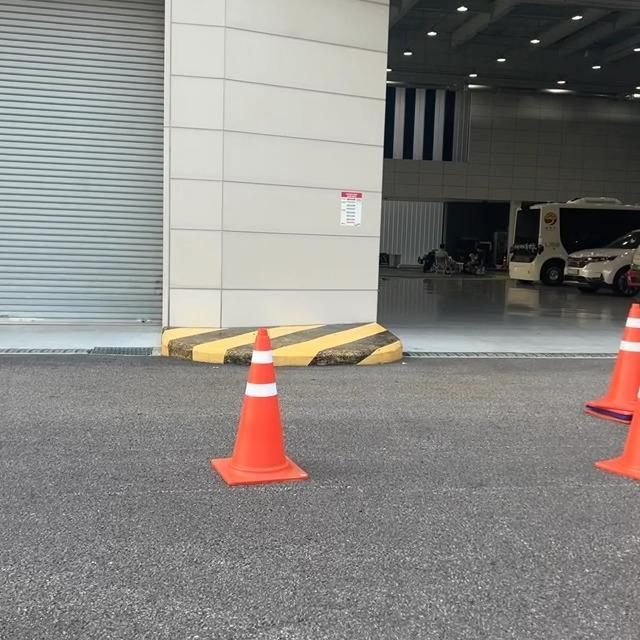fallen_object: (187, 285, 310, 518), (579, 280, 640, 442)
